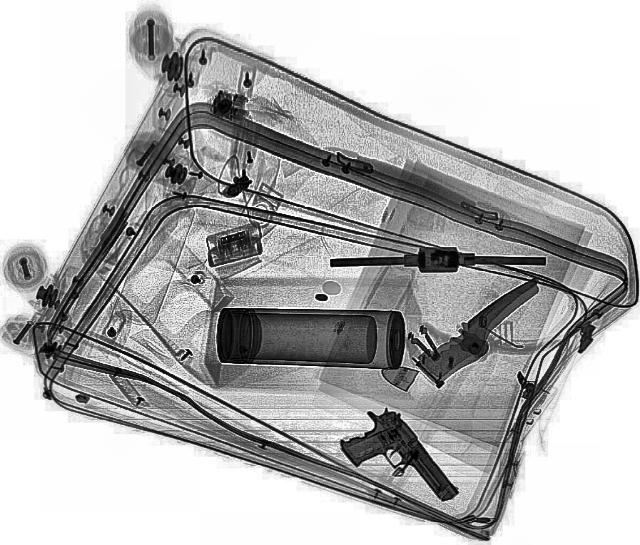Gun: (326, 399, 464, 523)
